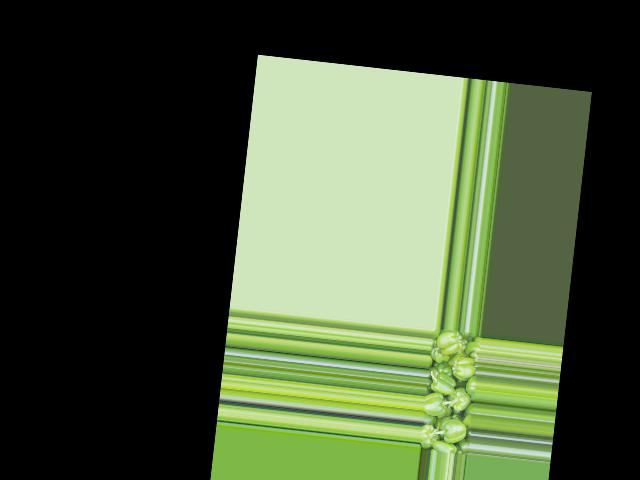bell_pepper: (421, 328, 481, 454)
